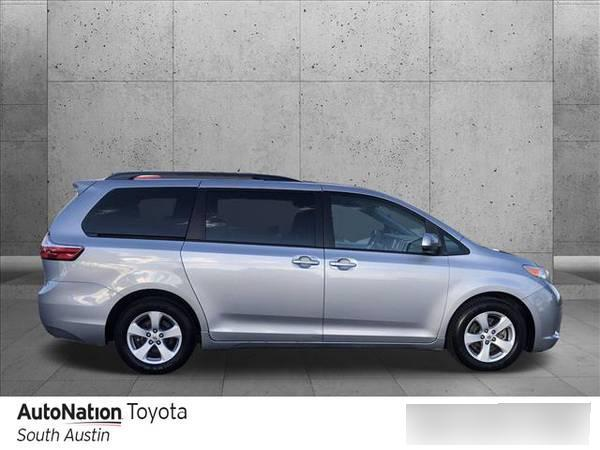Front_Bumper: (518, 284, 564, 355)
Front_Fender: (435, 231, 550, 349)
Front_Right_Door: (325, 247, 449, 345)
Front_Right_Window: (322, 188, 446, 256)
Rear_Bumper: (38, 278, 123, 345)
Rear_Fender: (38, 184, 213, 347)
Rear_Right_Door: (181, 239, 324, 344)
Rear_Right_Window: (182, 185, 322, 246)
Right_Headlight: (526, 265, 555, 285)
Right_Taillight: (38, 245, 82, 264)
Roof: (37, 175, 473, 250)
Wheel: (113, 299, 194, 375), (453, 297, 528, 373)
